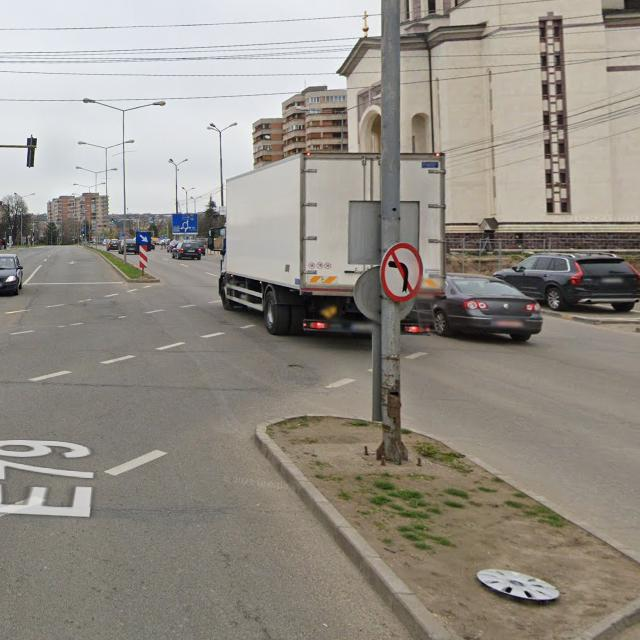forb_left: (380, 242, 423, 302)
mand_pass_right: (136, 232, 150, 245)
